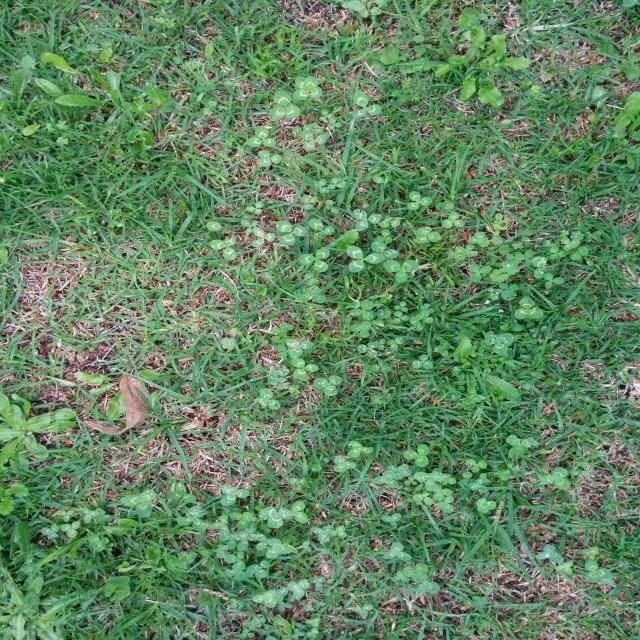Four Leaf Clover: (292, 76, 322, 100), (388, 464, 412, 480)
